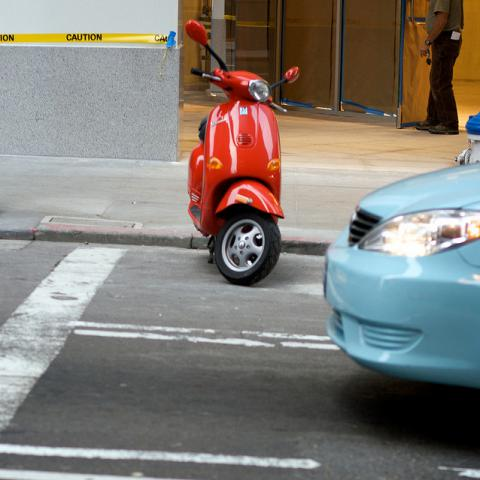car: (321, 161, 479, 393)
motorcycle: (185, 19, 303, 289)
